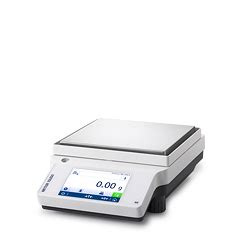Industrial Scale: (37, 115, 208, 222)
